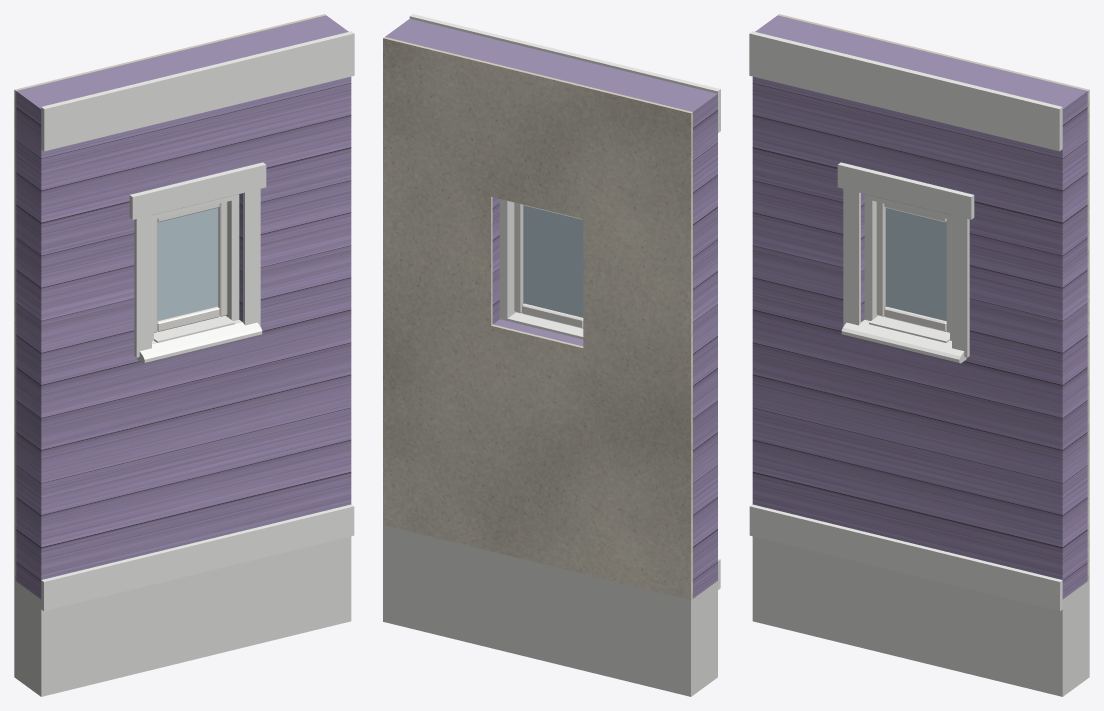
The model's file is wall_d_small.glb.
The picture shows the model from 3 angles, left to right: view 1: azimuth 30°, elevation 25°; view 2: azimuth 150°, elevation 25°; view 3: azimuth 330°, elevation 25°; orthographic projection.
Visible parts, largest first — view 1: wall_d_small_siding_d, wall_d_small_trim, wall_d_small_lattice, wall_d_small_glass, wall_d_small_sash, wall_d_small_frame, wall_d_small_plaster; view 2: wall_d_small_plaster, wall_d_small_lattice, wall_d_small_siding_d, wall_d_small_glass, wall_d_small_trim, wall_d_small_frame, wall_d_small_sash; view 3: wall_d_small_siding_d, wall_d_small_trim, wall_d_small_lattice, wall_d_small_glass, wall_d_small_sash, wall_d_small_frame, wall_d_small_plaster.
Part boxes in pixels (<box>): wall_d_small_siding_d: <box>16,15,351,599</box>; wall_d_small_trim: <box>41,31,354,611</box>; wall_d_small_lattice: <box>14,536,351,696</box>; wall_d_small_glass: <box>157,208,218,321</box>; wall_d_small_sash: <box>154,202,227,332</box>; wall_d_small_frame: <box>152,194,239,340</box>; wall_d_small_plaster: <box>14,14,325,580</box>; wall_d_small_plaster: <box>383,37,692,599</box>; wall_d_small_lattice: <box>383,525,717,696</box>; wall_d_small_siding_d: <box>385,19,717,598</box>; wall_d_small_glass: <box>523,205,583,317</box>; wall_d_small_trim: <box>409,14,720,589</box>; wall_d_small_frame: <box>499,199,515,320</box>; wall_d_small_sash: <box>514,202,583,328</box>; wall_d_small_siding_d: <box>752,15,1087,599</box>; wall_d_small_trim: <box>749,31,1062,611</box>; wall_d_small_lattice: <box>752,536,1089,696</box>; wall_d_small_glass: <box>885,208,946,321</box>; wall_d_small_sash: <box>876,202,949,332</box>; wall_d_small_frame: <box>864,194,951,340</box>; wall_d_small_plaster: <box>778,14,1089,580</box>.
Size of the model in its own units: 2 by 3.63 by 0.38.
7 materials, 2 textured.
